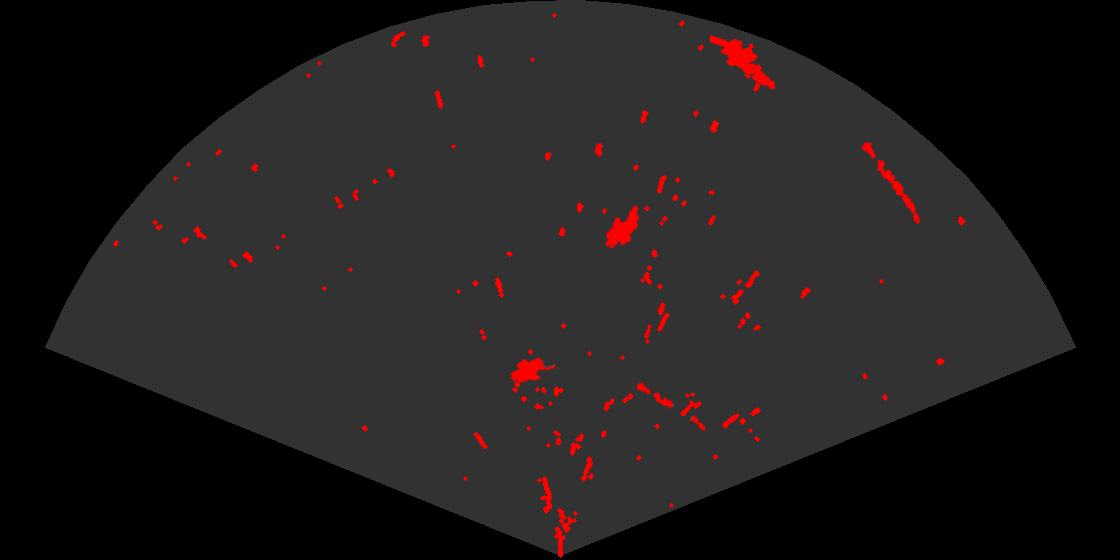AUV: (603, 204, 641, 250), (509, 356, 558, 384)
chain: (860, 140, 922, 225), (631, 379, 708, 433)
frogman: (710, 33, 777, 91)
